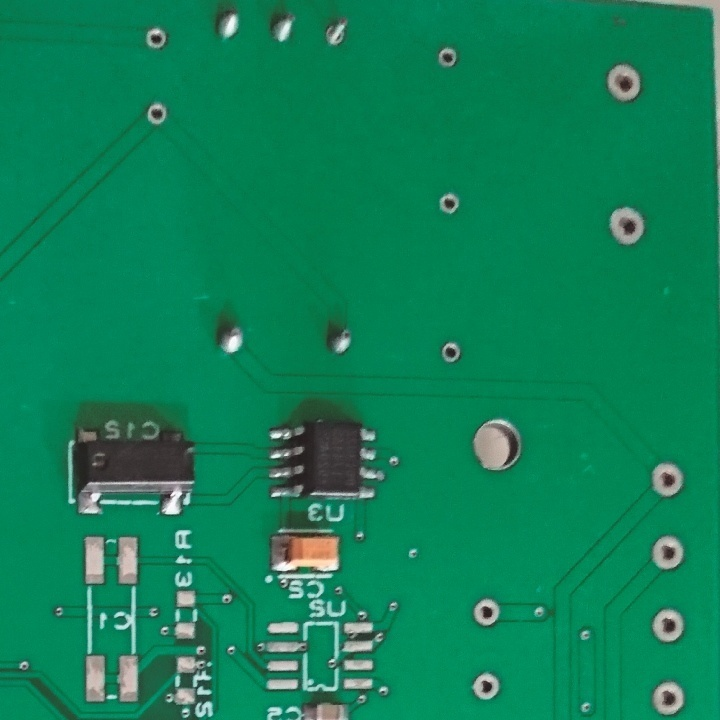F: (602, 60, 644, 109), (609, 201, 651, 249), (648, 606, 689, 648), (648, 455, 687, 499), (649, 678, 690, 718), (648, 530, 687, 572), (467, 668, 503, 704), (470, 598, 504, 629), (142, 23, 170, 54), (324, 17, 351, 49), (438, 184, 461, 217), (437, 340, 464, 367), (147, 99, 170, 129), (437, 45, 459, 69)
